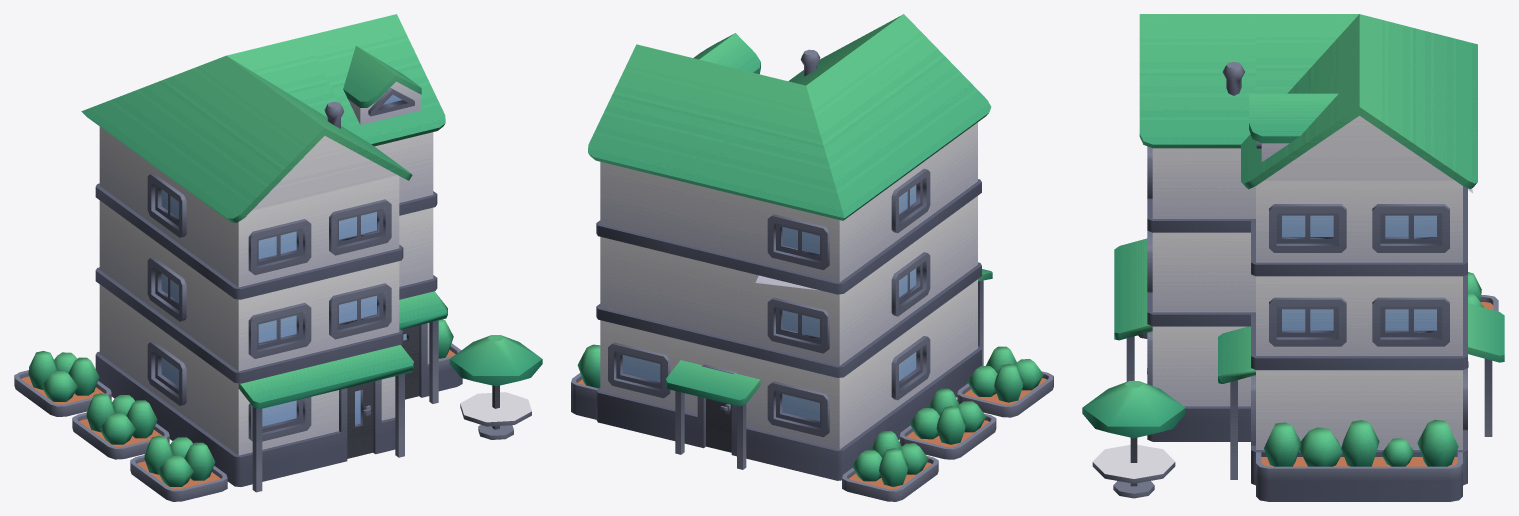
The model's file is house2_level3.glb.
3 renders of one model, left to right at view 1: azimuth 30°, elevation 25°; view 2: azimuth 150°, elevation 25°; view 3: azimuth 270°, elevation 25°, orthographic. The views are drawn at different scales.
Visible parts, largest first — view 1: building-type-f; view 2: building-type-f; view 3: building-type-f.
Part boxes in pixels (x1,y1,x2,y2): building-type-f: (14,14,542,501); building-type-f: (571,14,1053,501); building-type-f: (1082,14,1504,501).
Size of the model in its own units: 1.78 by 1.71 by 1.63.
4 materials, 4 textured.
